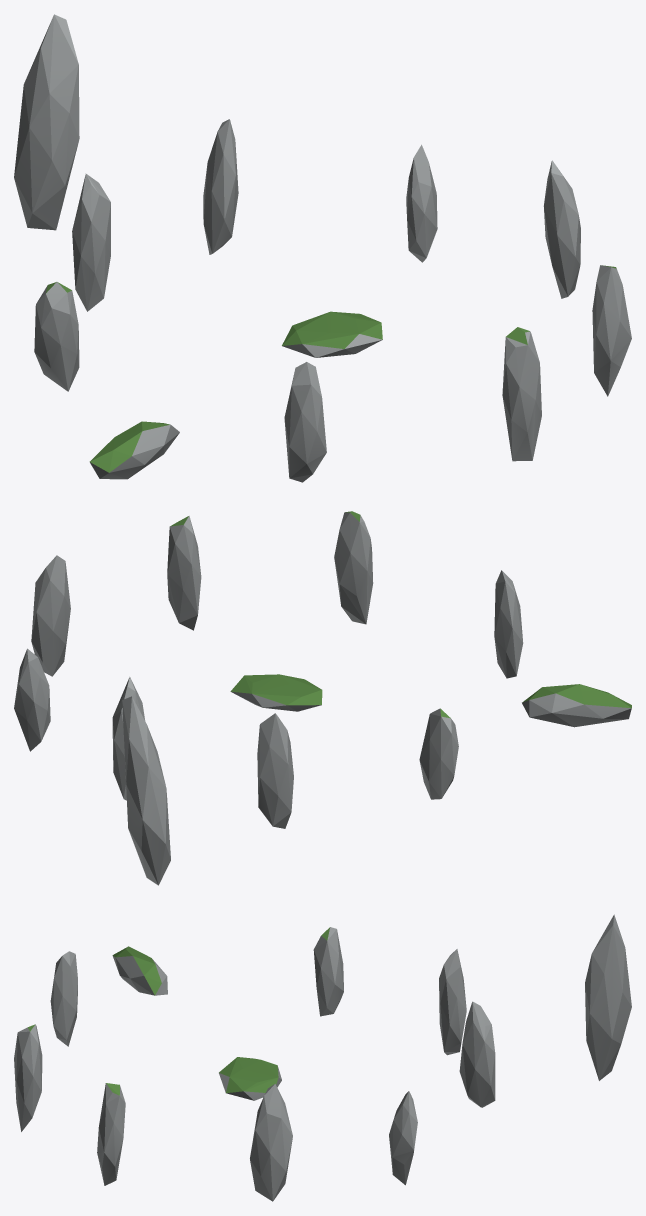
File: stones.glb
The picture shows the model from 3 angles, top to bottom: view 1: azimuth 30°, elevation 25°; view 2: azimuth 150°, elevation 25°; view 3: azimuth 270°, elevation 25°; orthographic projection. The views are drawn at different scales.
Visible parts, largest first — view 1: stones; view 2: stones; view 3: stones.
Boxes of the visible parts, <box> form: stones: <box>14,14,631,482</box>; stones: <box>14,511,631,885</box>; stones: <box>14,914,631,1201</box>.
Size of the model in its own units: 13.12 by 4.64 by 14.84.
